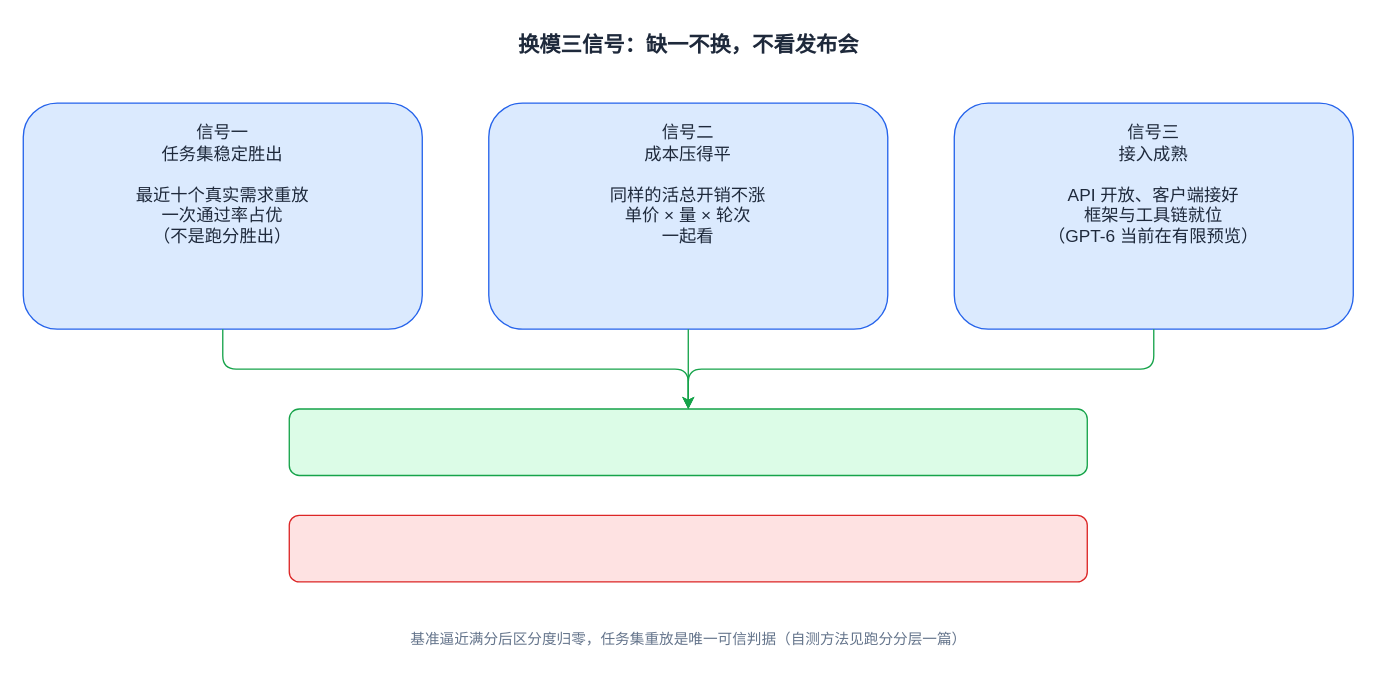
This 1377x676 diagram has some shape labels left out. Here are the shapes that lost their labels. From the top down, the centre of each, then its label:
At point (687, 441): "三个信号全亮 → 转正进主力队列".
At point (687, 548): "缺任何一个 → 留在试用期，两周后复评".
